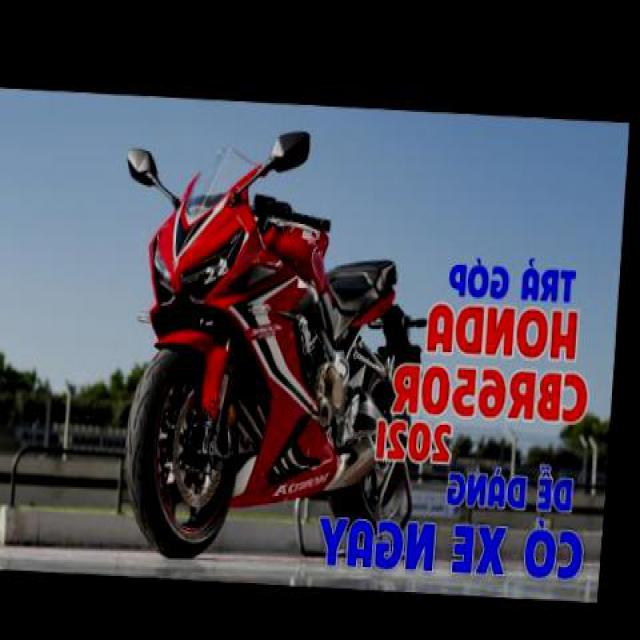CBR650R: (121, 137, 443, 574)
